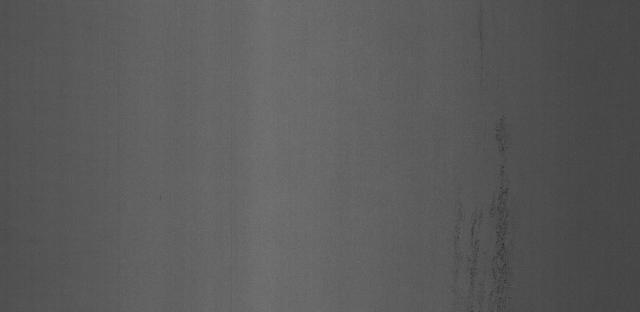inclusion: (442, 115, 532, 309)
